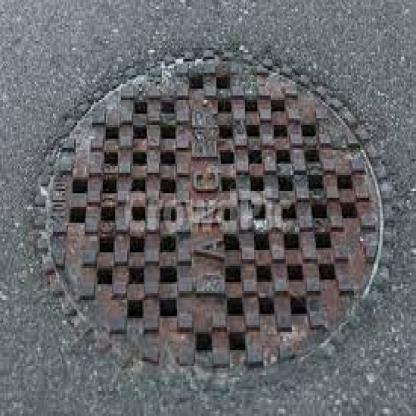closed manhole-not overflowing-: (47, 63, 385, 370)
